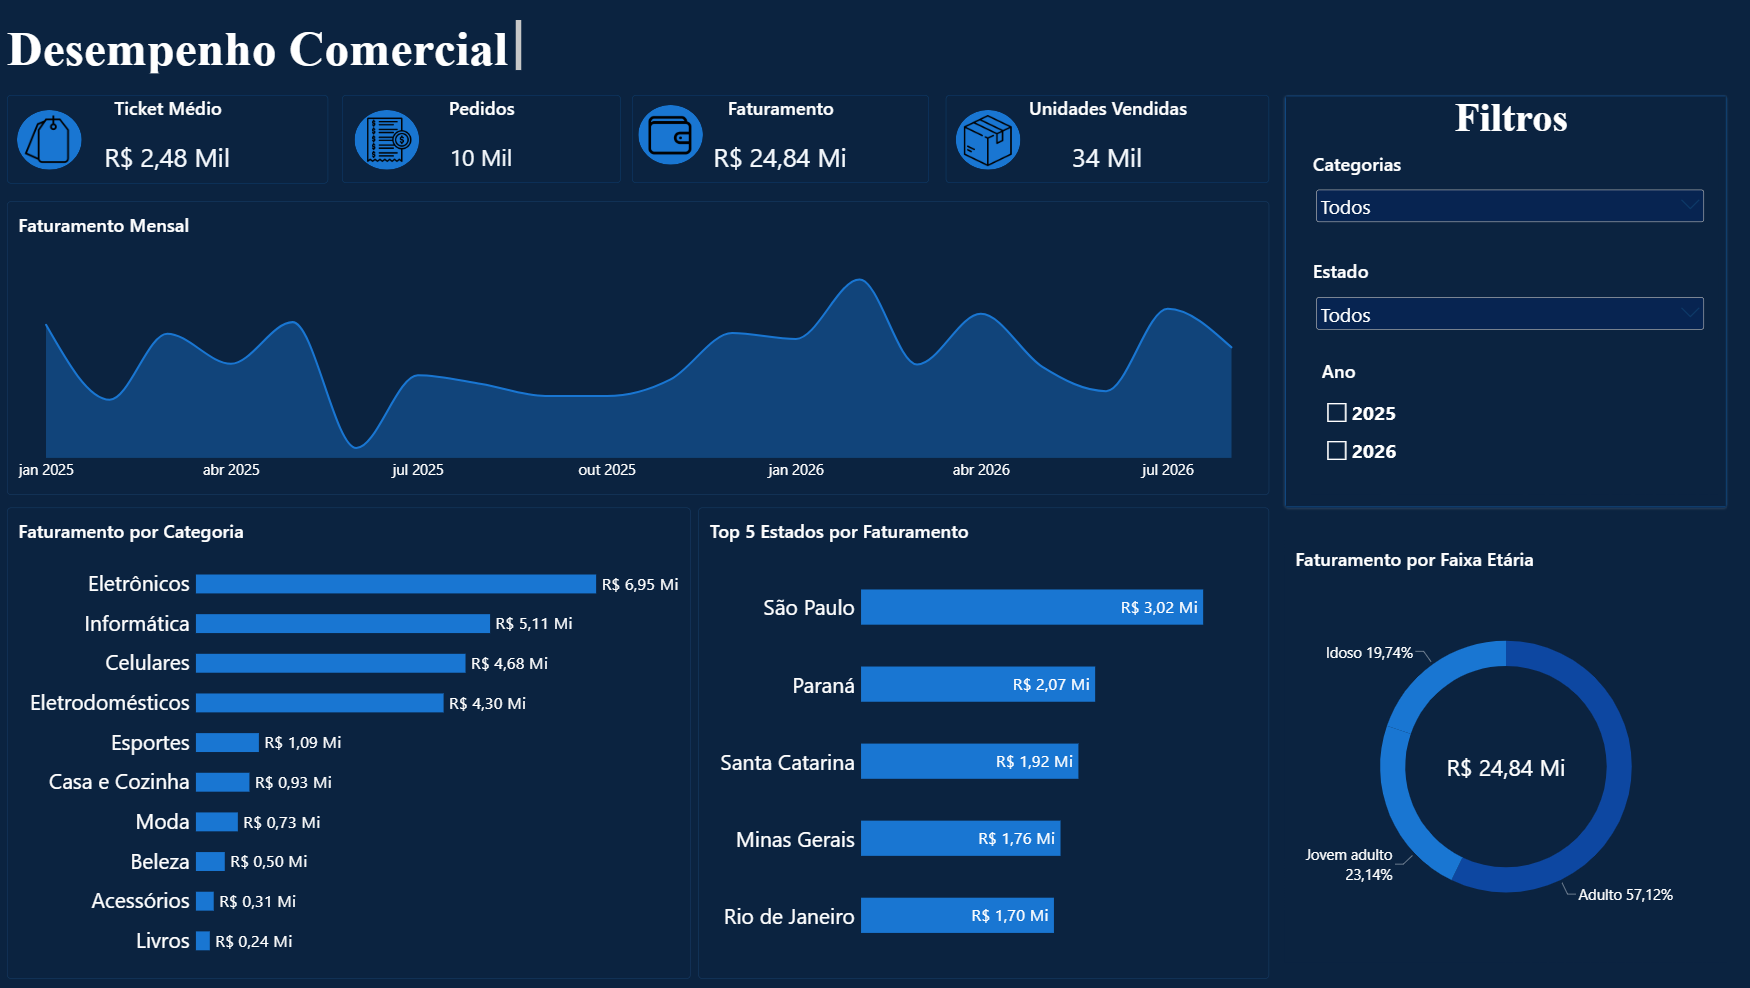

Layout of this report page (visuals, bound fields, positions):
{"tool":"powerbi","page":{"name":"Página 1","canvas":[2560,1440],"ordinal":0},"visuals":[{"type":"shape","box":[1879.6,137.5,644.2,600.8],"z":0},{"type":"cardVisual","title":"Faturamento","fields":{"Data":["public itens_pedido.Faturamento"]},"box":[931.4,137.5,431.9,127.9],"z":1000},{"type":"cardVisual","title":" Pedidos","fields":{"Data":["public itens_pedido.qtd_pedidos"]},"box":[509.5,137.5,405.4,127.9],"z":2000},{"type":"cardVisual","title":"Unidades Vendidas","fields":{"Data":["public itens_pedido.unidades_vendidas"]},"box":[1387.4,137.5,470.5,127.9],"z":3000},{"type":"cardVisual","title":"Ticket Médio","fields":{"Data":["public itens_pedido.ticket_medio"]},"box":[21.7,137.5,466.9,128.5],"z":4000},{"type":"barChart","title":"Faturamento por Categoria","fields":{"Category":["public categorias.nome"],"Y":["public itens_pedido.Faturamento"]},"box":[21.7,738.3,994.1,685.3],"z":5000},{"type":"lineChart","title":"Faturamento Mensal","fields":{"Category":["public pedidos.dt_pedido.Variation.Hierarquia de datas.Ano","public pedidos.dt_pedido.Variation.Hierarquia de datas.Mês"],"Y":["public itens_pedido.Faturamento"]},"box":[21.7,292,1836.2,427.1],"z":6000},{"type":"donutChart","title":"Faturamento por Faixa Etária","fields":{"Category":["public clientes.faixa_etaria"],"Y":["public itens_pedido.Faturamento"]},"box":[1879.6,779.4,644.2,620.1],"z":7000},{"type":"textbox","box":[21.7,29,748,77.2],"z":8000},{"type":"clusteredBarChart","title":"Top 5 Estados por Faturamento","fields":{"Category":["public localidades.Estado Mapa"],"Y":["public itens_pedido.Faturamento"]},"box":[1027.9,738.3,830,685.3],"z":9000},{"type":"slicer","title":"Categorias","fields":{"Values":["public categorias.nome"]},"box":[1906.2,205.1,605.6,132.7],"z":10000},{"type":"shape","box":[939.6,153.6,94.1,86.9],"z":11000},{"type":"image","box":[951.6,165.6,70,62.7],"z":12000},{"type":"shape","box":[1401.3,159.7,94.1,86.9],"z":13000},{"type":"shape","box":[526.4,159.3,94.1,86.9],"z":14000},{"type":"shape","box":[36.2,159.3,94.1,86.9],"z":15000},{"type":"image","box":[36.2,159.3,91.7,84.5],"z":16000},{"type":"image","box":[545.7,171.3,65.1,65.1],"z":17000},{"type":"image","box":[1400.1,167,96.5,74.8],"z":18000},{"type":"slicer","title":"Ano","fields":{"Values":["public pedidos.dt_pedido.Variation.Hierarquia de datas.Ano"]},"box":[1918.2,506.7,593.6,212.3],"z":19000},{"type":"textbox","box":[1896.5,137.5,627.3,79.6],"z":20000},{"type":"slicer","title":"Estado","fields":{"Values":["public localidades.Estado Mapa"]},"box":[1906.2,361.9,605.6,135.1],"z":21000}]}

Visuals, with their boxes in screenshot pixels (x1, y1, x2, y2), scaled from the page's 2560x1440 canvas onto the 1750x988 screenshot:
shape: bbox=[1285, 94, 1725, 507]
"Faturamento" cardVisual: bbox=[637, 94, 932, 182]
" Pedidos" cardVisual: bbox=[348, 94, 625, 182]
"Unidades Vendidas" cardVisual: bbox=[948, 94, 1270, 182]
"Ticket Médio" cardVisual: bbox=[15, 94, 334, 183]
"Faturamento por Categoria" barChart: bbox=[15, 507, 694, 977]
"Faturamento Mensal" lineChart: bbox=[15, 200, 1270, 493]
"Faturamento por Faixa Etária" donutChart: bbox=[1285, 535, 1725, 960]
textbox: bbox=[15, 20, 526, 73]
"Top 5 Estados por Faturamento" clusteredBarChart: bbox=[703, 507, 1270, 977]
"Categorias" slicer: bbox=[1303, 141, 1717, 232]
shape: bbox=[642, 105, 707, 165]
image: bbox=[651, 114, 698, 157]
shape: bbox=[958, 110, 1022, 169]
shape: bbox=[360, 109, 424, 169]
shape: bbox=[25, 109, 89, 169]
image: bbox=[25, 109, 87, 167]
image: bbox=[373, 118, 418, 162]
image: bbox=[957, 115, 1023, 166]
"Ano" slicer: bbox=[1311, 348, 1717, 493]
textbox: bbox=[1296, 94, 1725, 149]
"Estado" slicer: bbox=[1303, 248, 1717, 341]
